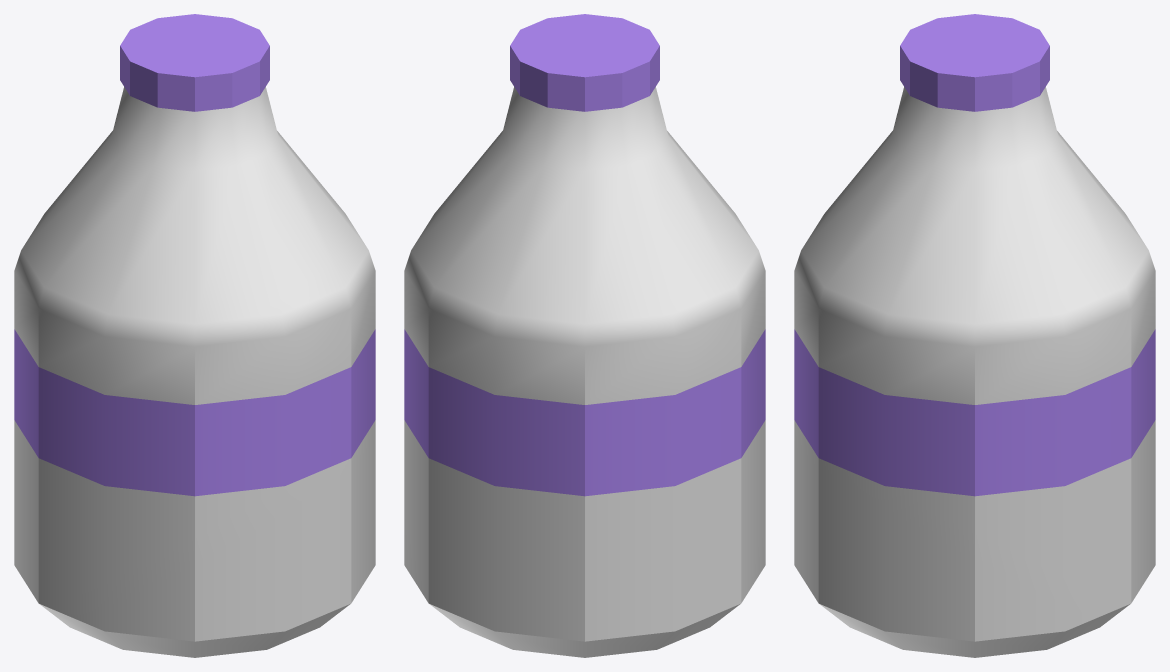
File: Ürün50.fbx
3 views of the same model, side by side, from view 1: azimuth 30°, elevation 25°; view 2: azimuth 150°, elevation 25°; view 3: azimuth 270°, elevation 25° (orthographic).
Parts seen in each view (by area): view 1: pCylinder30; view 2: pCylinder30; view 3: pCylinder30.
Boxes of the visible parts, x1,y1,x2,y2 form: pCylinder30: (14, 14, 375, 657); pCylinder30: (404, 14, 765, 657); pCylinder30: (794, 14, 1155, 657).
Bounding box in the file's own units: 22.2 × 37.39 × 22.2.
